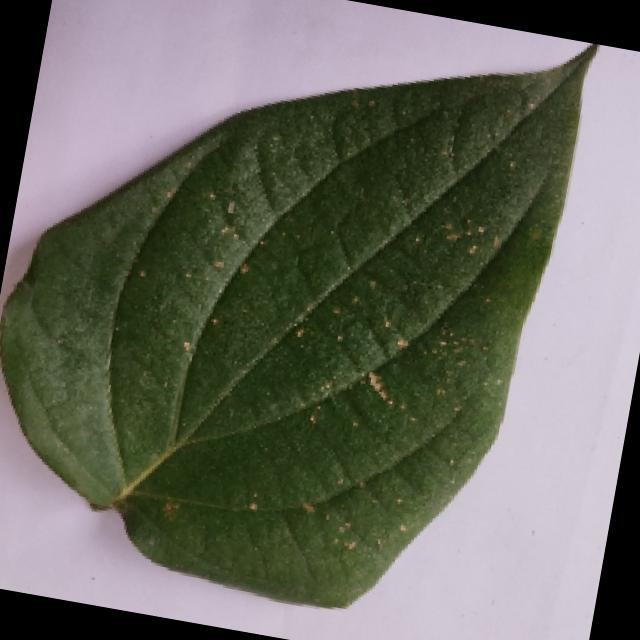pollu-disease: (0, 0, 618, 629)
